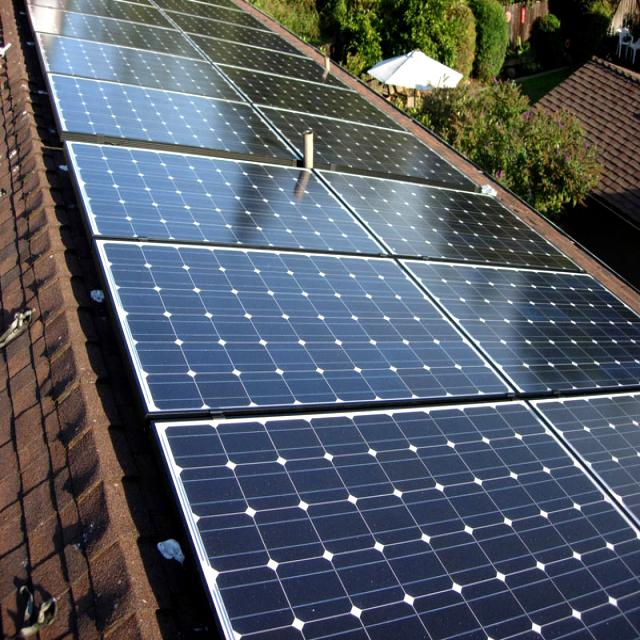crack: (142, 409, 640, 640), (79, 219, 521, 414), (55, 130, 393, 278), (319, 168, 591, 280), (39, 60, 310, 166), (216, 54, 397, 132)
